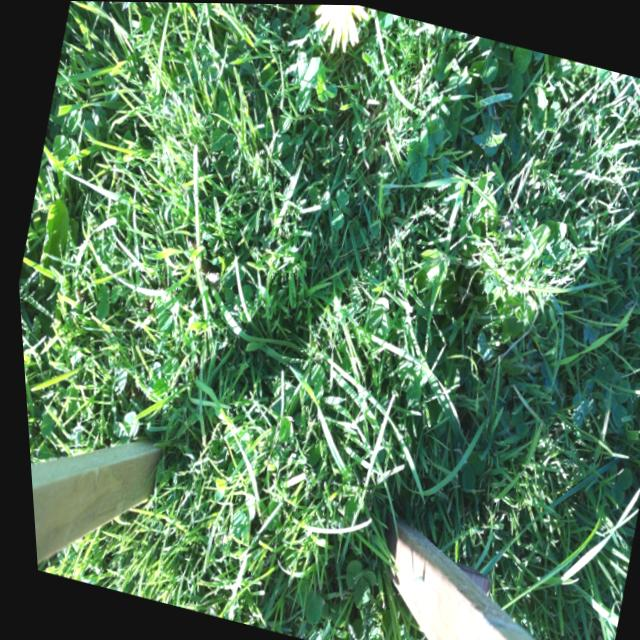base: (402, 90, 436, 131)
flower: (299, 3, 372, 56)
